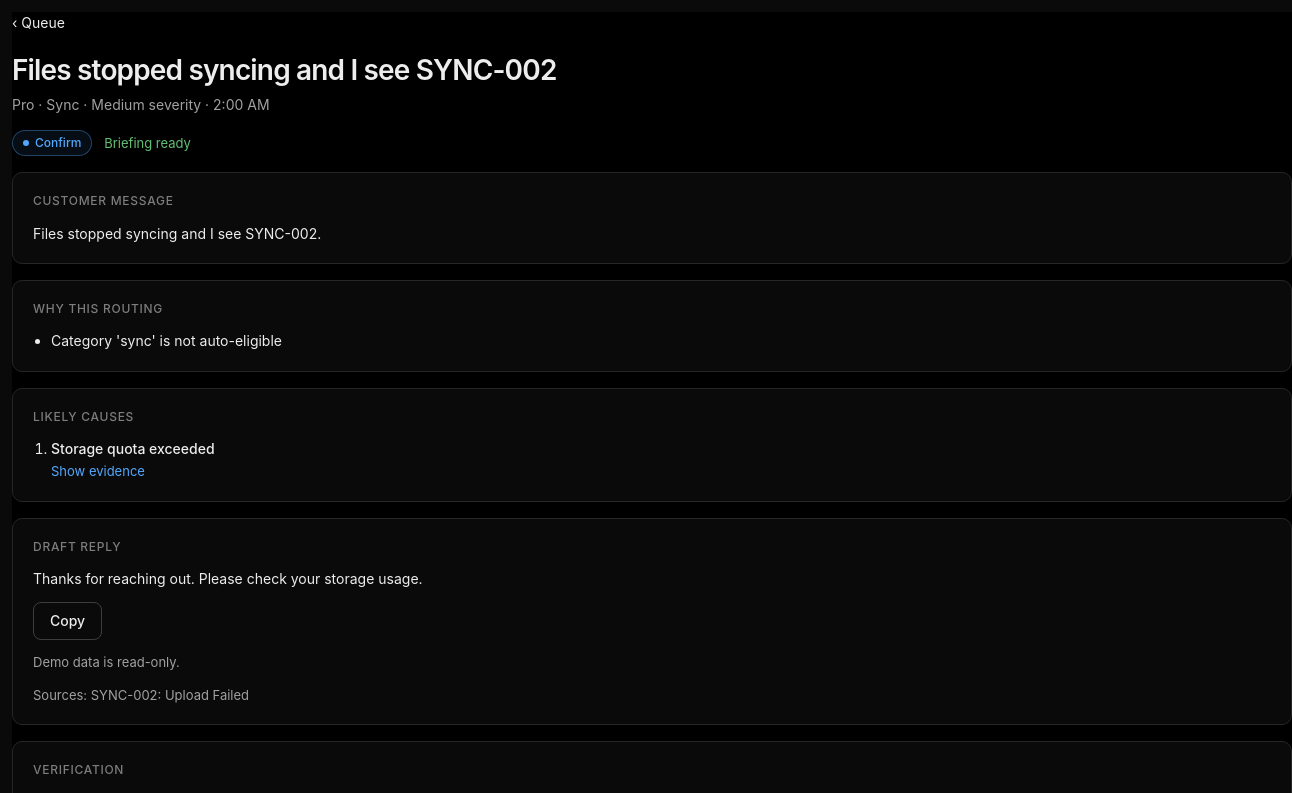
Test case: BriefingDetail › hides evidence until the hypothesis is expanded
Expected: the text "ERROR SYNC-002 upload failed" is not shown
Click the button "Show evidence". click: [98, 472]
box: [51, 461, 145, 482]
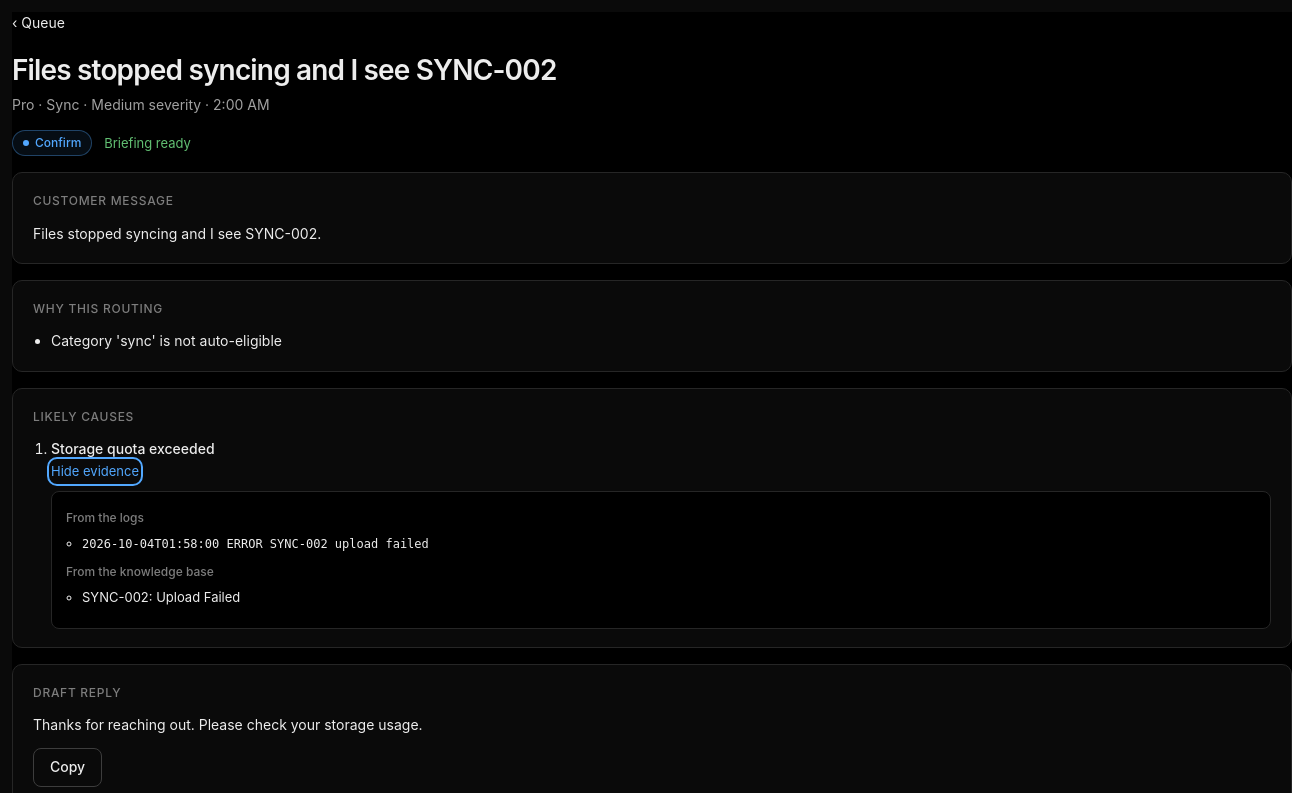
Now the text "2026-10-04T01:58:00 ERROR SYNC-002 upload failed" is shown, box [82, 537, 429, 551]
